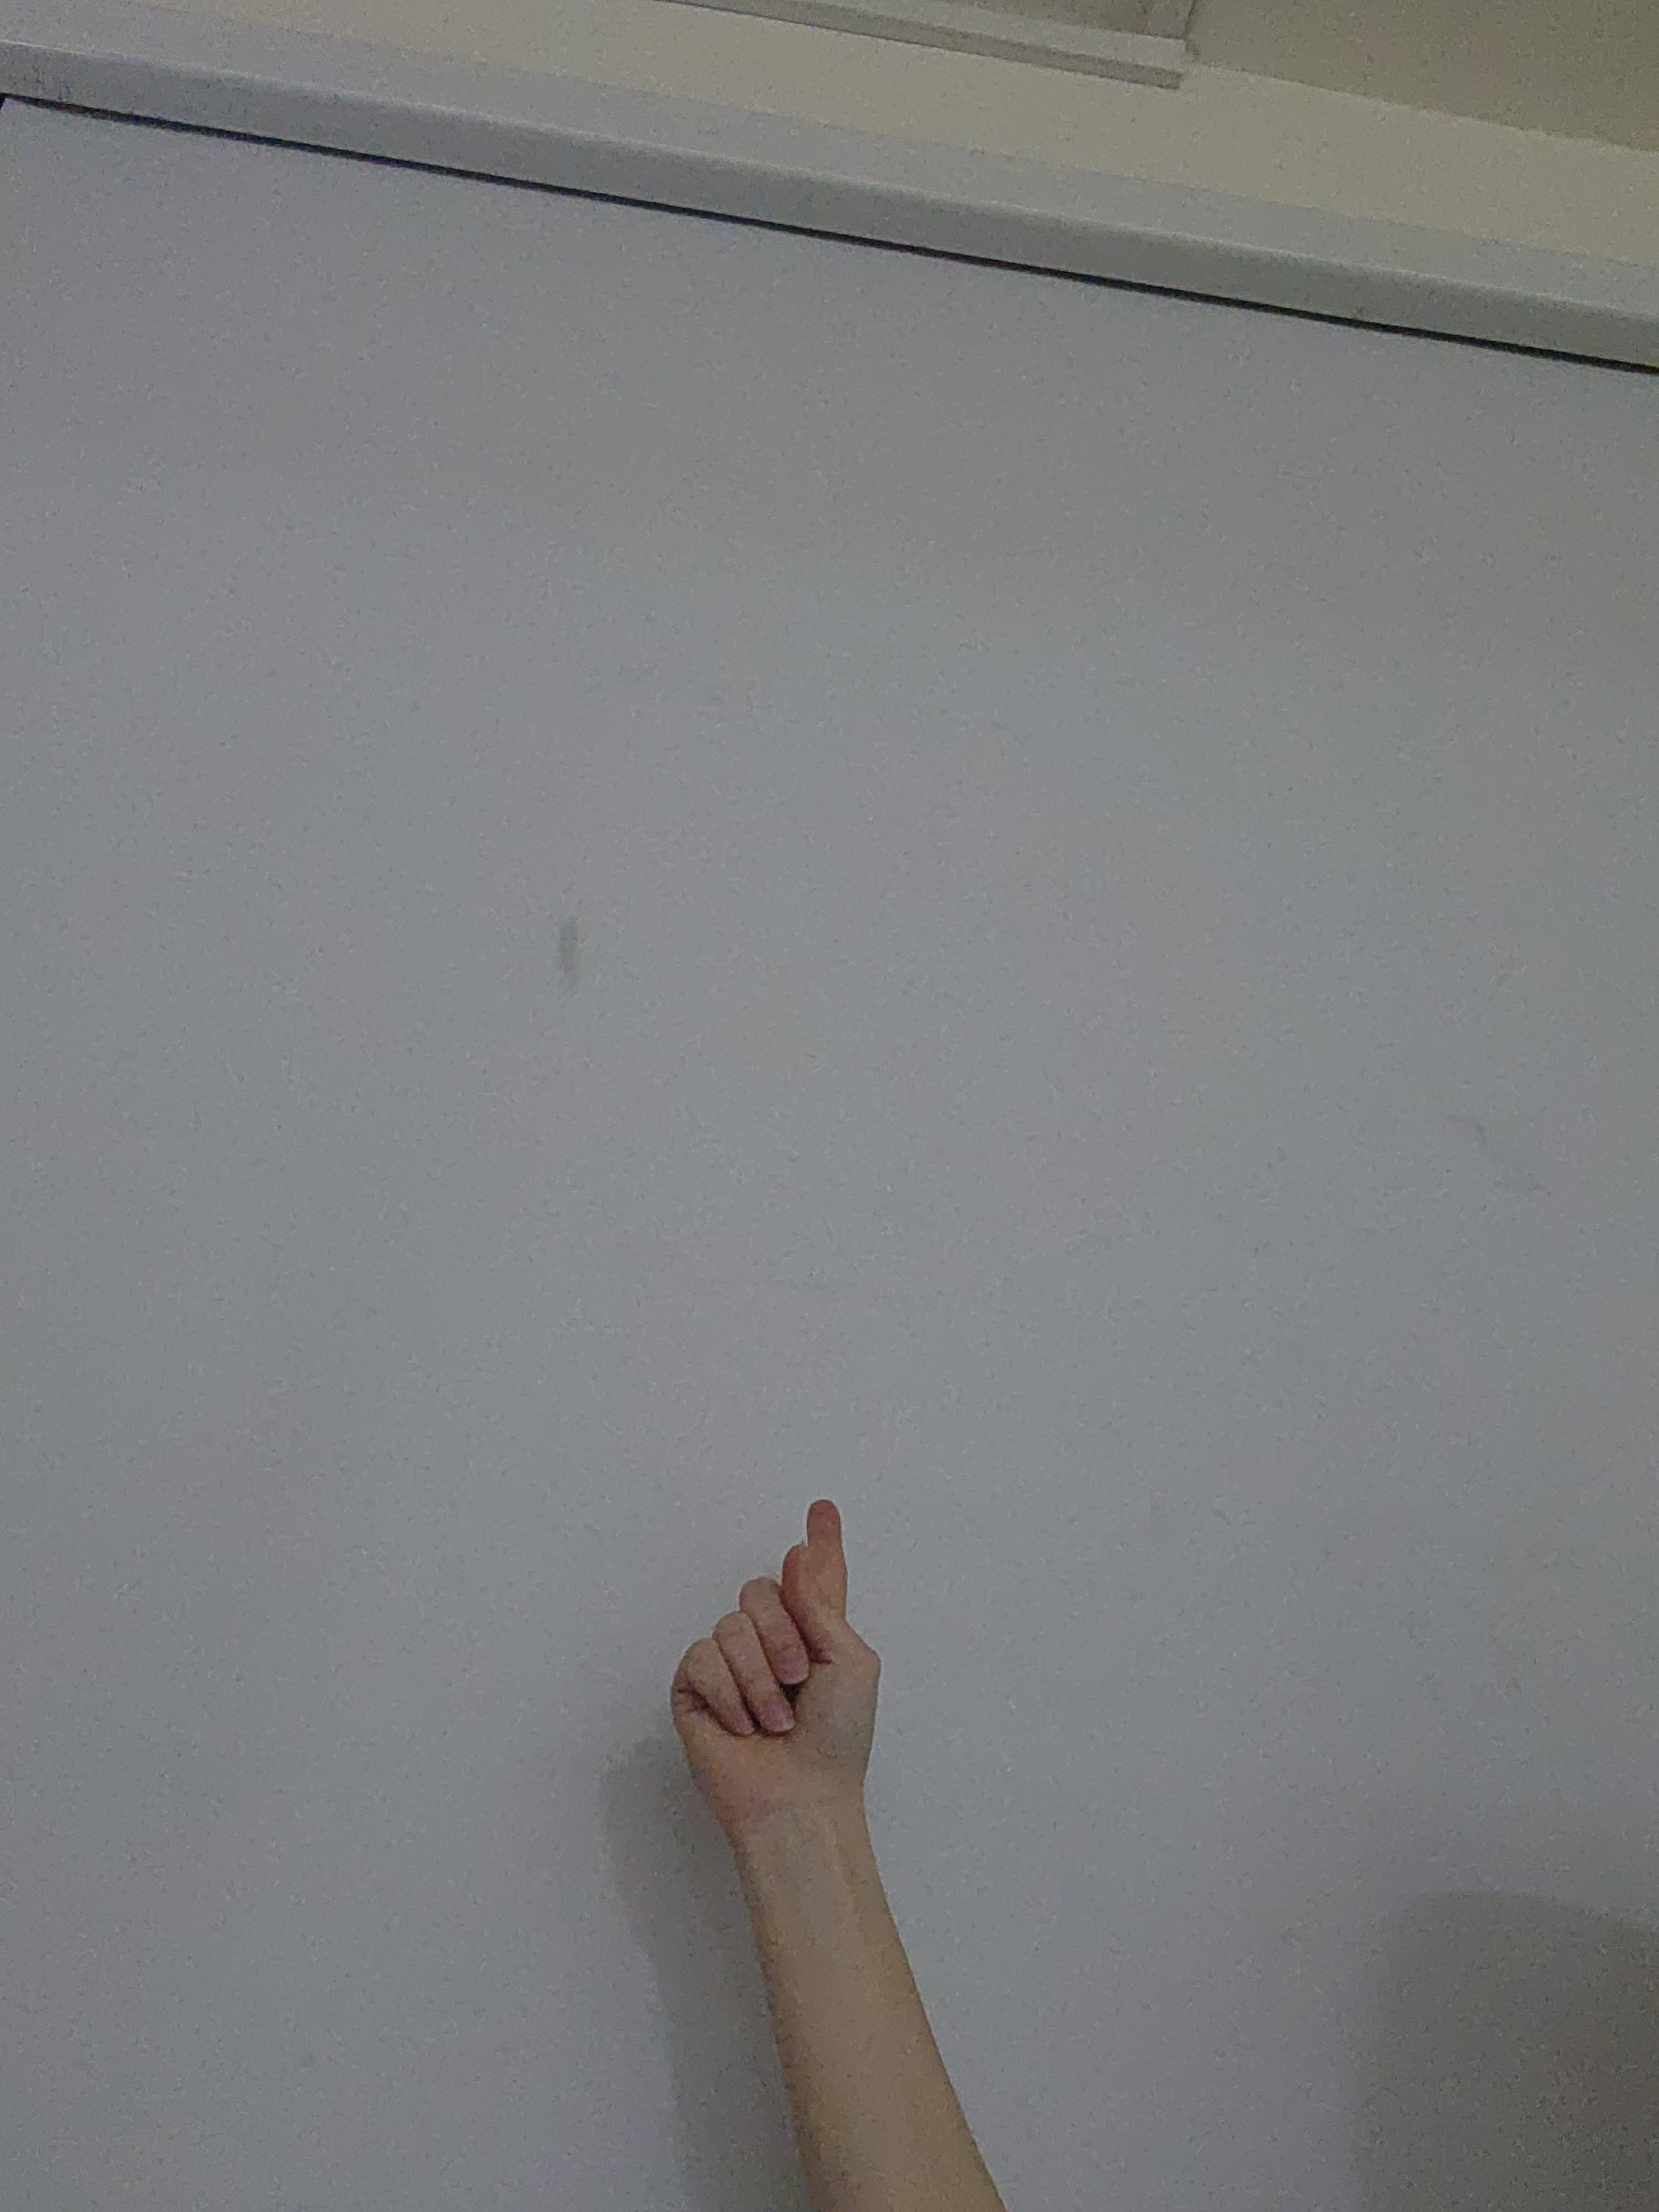pointing_gesture: (663, 1495, 920, 1867)
